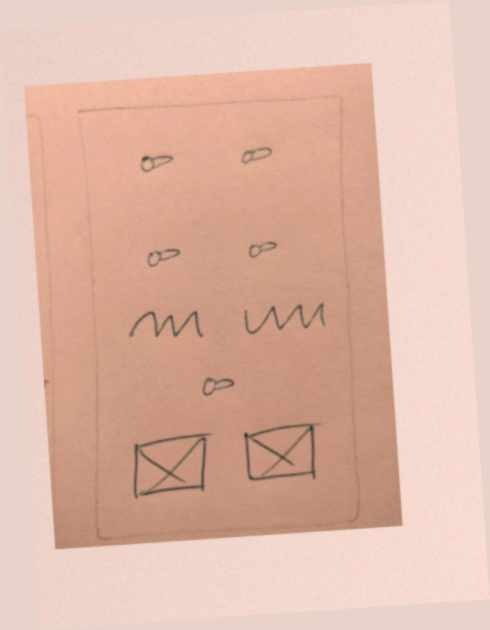image: (126, 425, 220, 508), (234, 412, 331, 492)
switch: (229, 132, 284, 174), (234, 228, 291, 268), (130, 140, 185, 180), (138, 234, 190, 276), (195, 366, 247, 405)
text: (234, 287, 334, 346), (119, 297, 213, 357)
